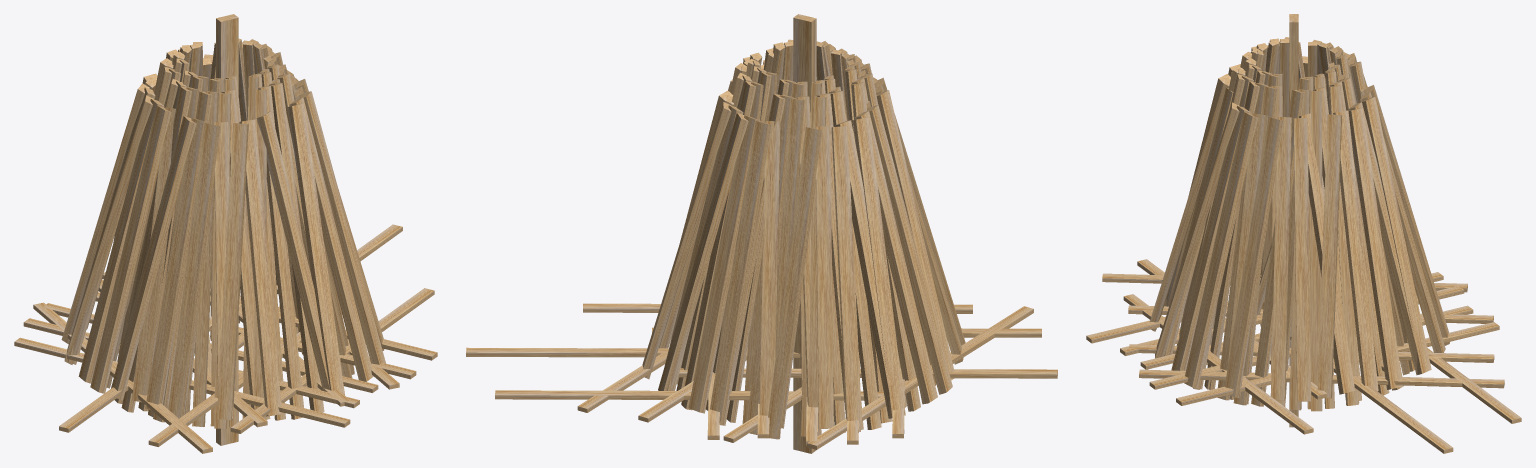
The model's file is Pyre_01.FBX.
The picture shows the model from 3 angles, left to right: view 1: azimuth 30°, elevation 25°; view 2: azimuth 150°, elevation 25°; view 3: azimuth 270°, elevation 25°; orthographic projection. The views are drawn at different scales.
Visible parts, largest first — view 1: Plank_30, Plank_17, Plank_00, Plank_31, Plank_29, Plank_18, Plank_28, Plank_27, Plank_02, Plank_01, Plank_22, Plank_060 (+38 smaller); view 2: Plank_25, Plank_14, Plank_20, Plank_13, Plank_26, Plank_23, Plank_15, Plank_31, Plank_12, Plank_22, Plank_24, Plank_10 (+31 smaller); view 3: Plank_10, Plank_04, Plank_02, Plank_08, Plank_09, Plank_06, Plank_05, Plank_12, Plank_01, Plank_07, Plank_00, Plank_073 (+37 smaller).
Boxes of the visible parts, bbox=[...] form: Plank_30: bbox=[168, 123, 220, 418]; Plank_17: bbox=[217, 123, 248, 420]; Plank_00: bbox=[288, 103, 344, 395]; Plank_31: bbox=[90, 105, 171, 393]; Plank_29: bbox=[145, 118, 207, 410]; Plank_18: bbox=[239, 119, 282, 416]; Plank_28: bbox=[111, 116, 196, 399]; Plank_27: bbox=[256, 111, 329, 390]; Plank_02: bbox=[300, 91, 385, 364]; Plank_01: bbox=[289, 97, 373, 381]; Plank_22: bbox=[78, 98, 164, 383]; Plank_060: bbox=[258, 85, 303, 419]; Plank_25: bbox=[768, 127, 822, 428]; Plank_14: bbox=[710, 121, 772, 420]; Plank_20: bbox=[831, 126, 862, 427]; Plank_13: bbox=[688, 115, 760, 413]; Plank_26: bbox=[815, 126, 833, 428]; Plank_23: bbox=[852, 117, 905, 418]; Plank_15: bbox=[759, 121, 780, 415]; Plank_31: bbox=[866, 105, 952, 394]; Plank_12: bbox=[658, 113, 748, 390]; Plank_22: bbox=[854, 111, 937, 404]; Plank_24: bbox=[834, 120, 889, 418]; Plank_10: bbox=[642, 102, 731, 379]; Plank_10: bbox=[1348, 107, 1402, 389]; Plank_04: bbox=[1224, 117, 1284, 397]; Plank_02: bbox=[1184, 112, 1258, 388]; Plank_08: bbox=[1317, 114, 1342, 398]; Plank_09: bbox=[1333, 110, 1378, 391]; Plank_06: bbox=[1293, 118, 1311, 401]; Plank_05: bbox=[1271, 117, 1292, 400]; Plank_12: bbox=[1361, 97, 1431, 374]; Plank_01: bbox=[1171, 105, 1250, 370]; Plank_07: bbox=[1299, 113, 1355, 394]; Plank_00: bbox=[1155, 102, 1239, 358]; Plank_073: bbox=[1311, 90, 1322, 411].
Size of the model in its own units: 74.44 by 65.22 by 63.53.
Materials: 1 (1 with a texture image).
